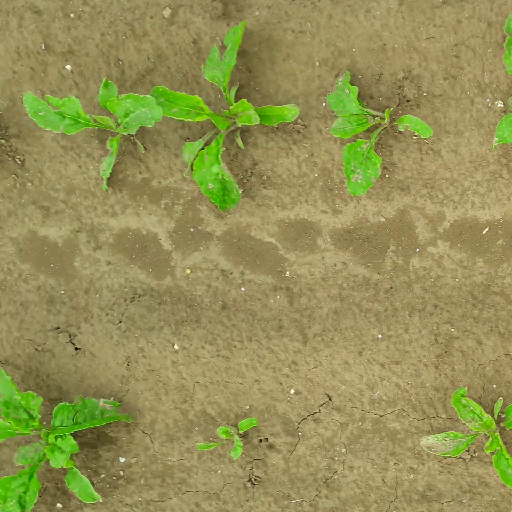sugarbeet: (144, 18, 301, 217), (1, 357, 134, 511), (17, 78, 161, 194), (322, 70, 434, 201), (414, 379, 512, 493), (187, 410, 262, 464)
